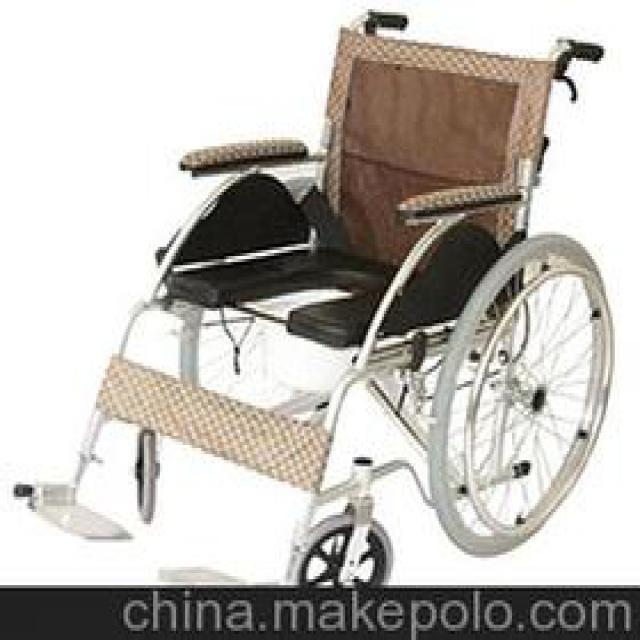wheelchairs: (26, 14, 614, 580)
